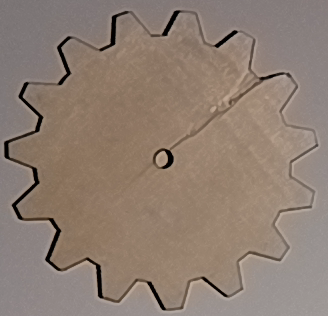Crack: (170, 67, 264, 152)
